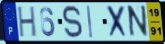6: (39, 6, 56, 38)
H: (17, 5, 38, 39)
I: (86, 5, 94, 39)
N: (128, 4, 149, 40)
S: (61, 5, 84, 40)
X: (106, 5, 129, 40)
